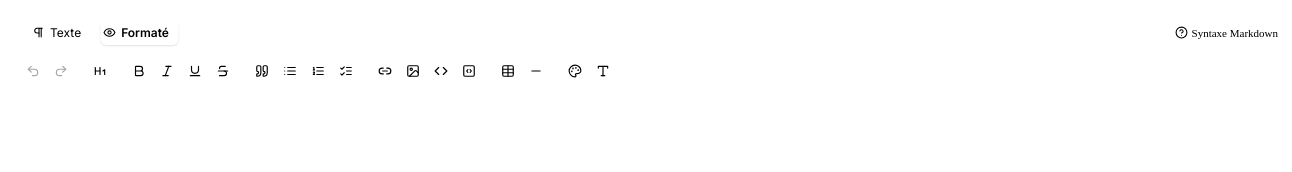
Test: MarkdownEditor insertion d'un lien › insère le lien saisi dans le popover d'URL
Click the button titled "Lien (Ctrl+K)" at {"x": 385, "y": 71}, box [372, 58, 398, 84]
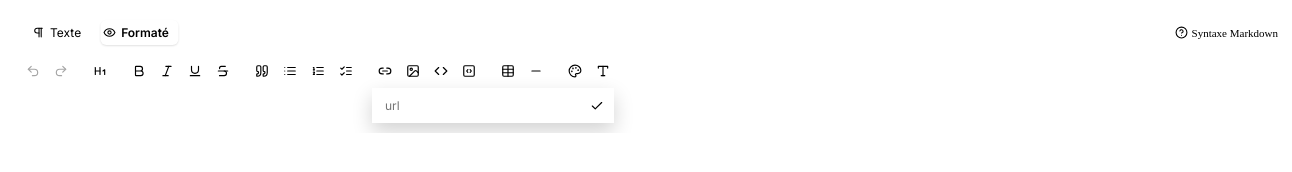
Type "https://example.com" into the field named "Entrer l'URL" at {"x": 479, "y": 106}, box [378, 94, 580, 117]
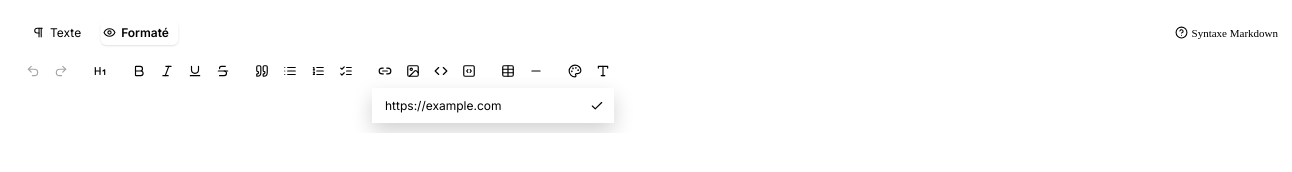
Press Enter in the field named "Entrer l'URL", box [378, 94, 580, 117]
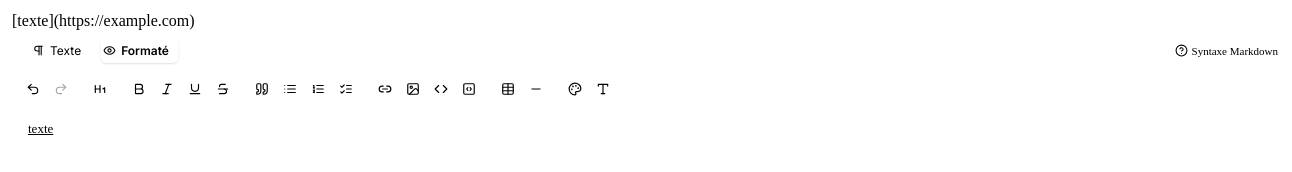
Expected: the text with test id "value" reads "[texte](https://example.com)", [12, 12, 195, 29]
